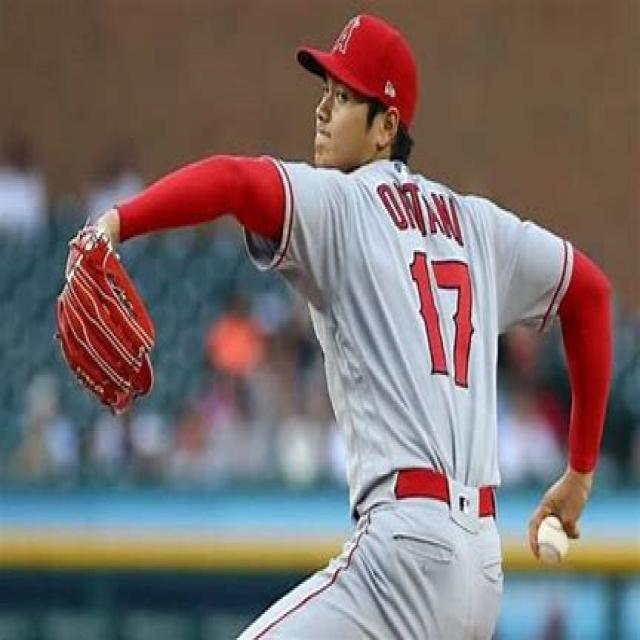glove: (50, 209, 158, 421)
